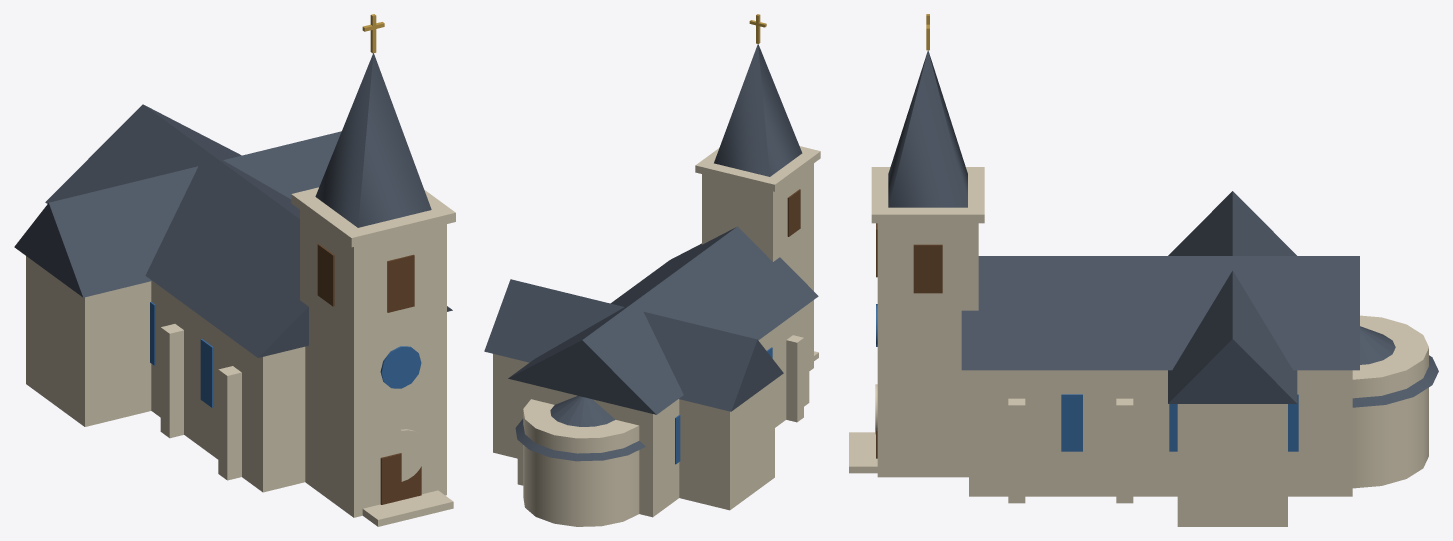
The model's file is eglise.glb.
The picture shows the model from 3 angles, left to right: view 1: azimuth 30°, elevation 25°; view 2: azimuth 150°, elevation 25°; view 3: azimuth 270°, elevation 25°; orthographic projection. The views are drawn at different scales.
Visible parts, largest first — view 1: tower, nave_roof, transept_roof, transept_walls, nave_walls, spire, tower_cornice, buttress_L0, buttress_L1, steps, door, belfry_S (+4 smaller); view 2: nave_roof, transept_roof, transept_walls, apse_walls, nave_walls, tower, spire, apse_roof, tower_cornice, buttress_L1, belfry_W; view 3: nave_roof, nave_walls, tower, transept_roof, transept_walls, apse_walls, spire, tower_cornice, apse_roof, buttress_R0, buttress_R1, belfry_E (+2 smaller).
Part boxes in pixels (x1,y1,x2,y2): tower: [300, 210, 446, 517]; nave_roof: [45, 104, 452, 357]; transept_roof: [14, 131, 341, 297]; transept_walls: [26, 256, 151, 426]; nave_walls: [151, 281, 305, 492]; spire: [315, 53, 431, 227]; tower_cornice: [291, 187, 455, 247]; buttress_L0: [160, 324, 183, 438]; buttress_L1: [218, 366, 241, 480]; steps: [362, 490, 453, 526]; door: [380, 453, 421, 504]; belfry_S: [387, 254, 414, 312]; nave_roof: [508, 226, 818, 414]; transept_roof: [484, 279, 783, 411]; transept_walls: [493, 354, 774, 510]; apse_walls: [523, 399, 639, 526]; nave_walls: [517, 303, 809, 517]; tower: [702, 163, 813, 370]; spire: [714, 44, 802, 176]; apse_roof: [515, 396, 645, 461]; tower_cornice: [695, 146, 820, 191]; buttress_L1: [786, 335, 803, 422]; belfry_W: [787, 189, 800, 236]; nave_roof: [961, 256, 1359, 370]; nave_walls: [969, 370, 1352, 496]; tower: [877, 223, 978, 477]; transept_roof: [1168, 191, 1297, 403]; transept_walls: [1177, 404, 1287, 526]; apse_walls: [1352, 315, 1428, 488]; spire: [888, 50, 967, 207]; tower_cornice: [871, 167, 984, 223]; apse_roof: [1352, 326, 1438, 407]; buttress_R0: [1116, 398, 1133, 503]; buttress_R1: [1008, 398, 1025, 503]; belfry_E: [913, 244, 942, 293].
Bounding box in the file's own units: 14.6 × 20.3 × 24.6.
